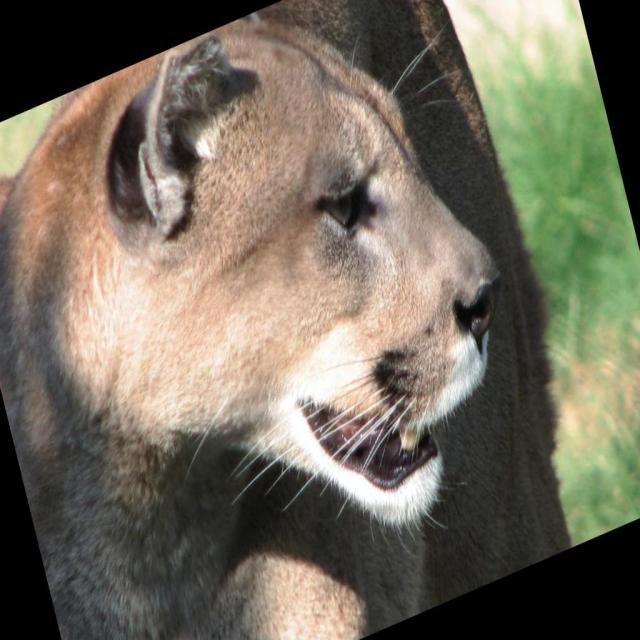Lion: (0, 0, 602, 639)
